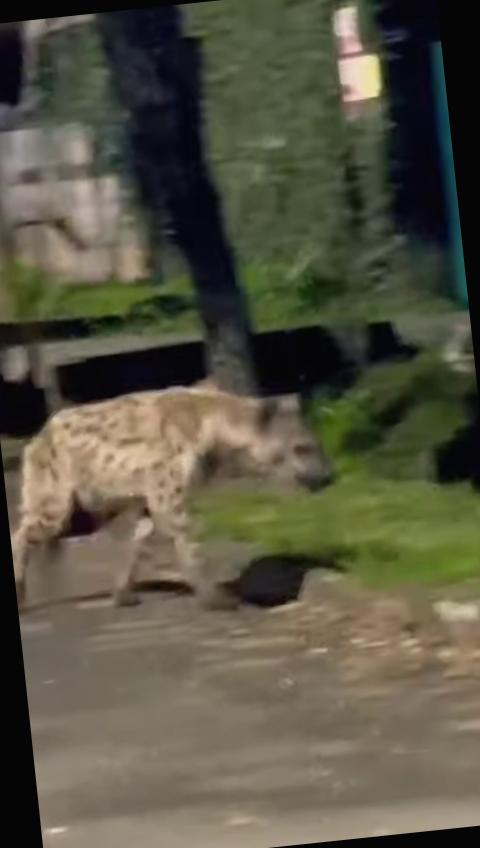hyenas: (0, 345, 398, 690)
